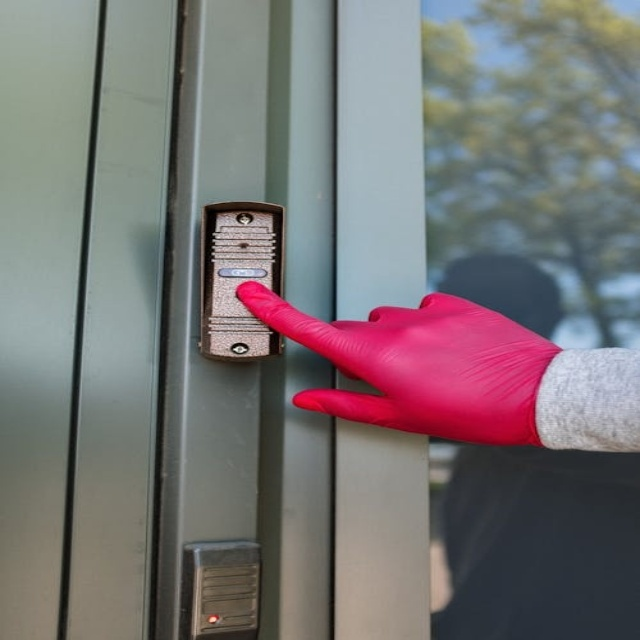Guantes: (238, 286, 564, 447)
